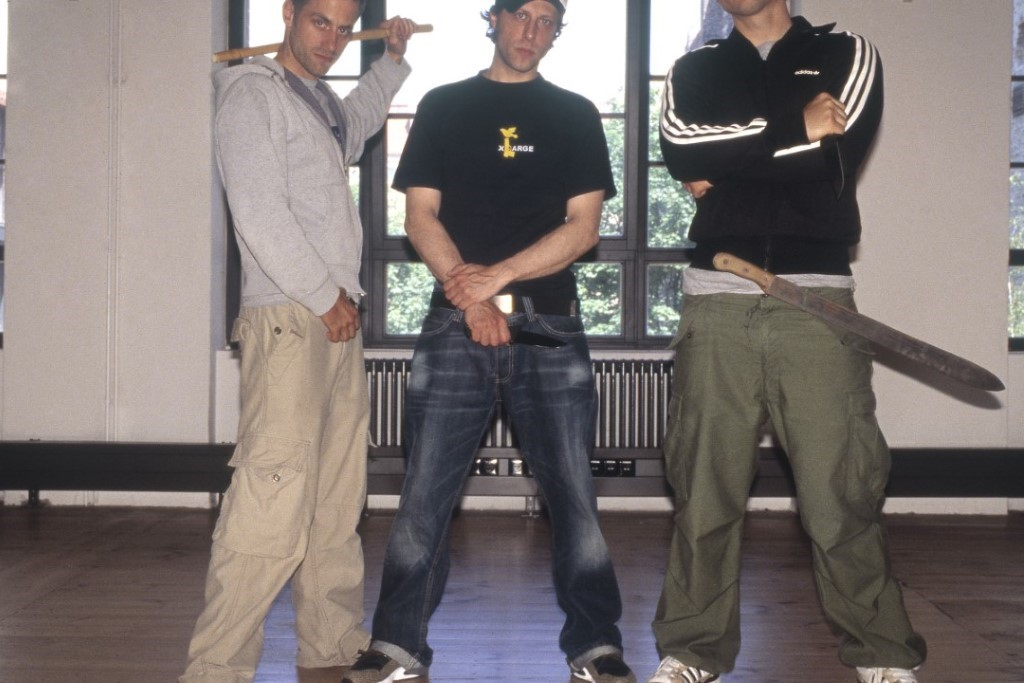baston_e: (219, 23, 429, 62)
baston_v: (424, 20, 436, 34), (210, 50, 222, 64)
